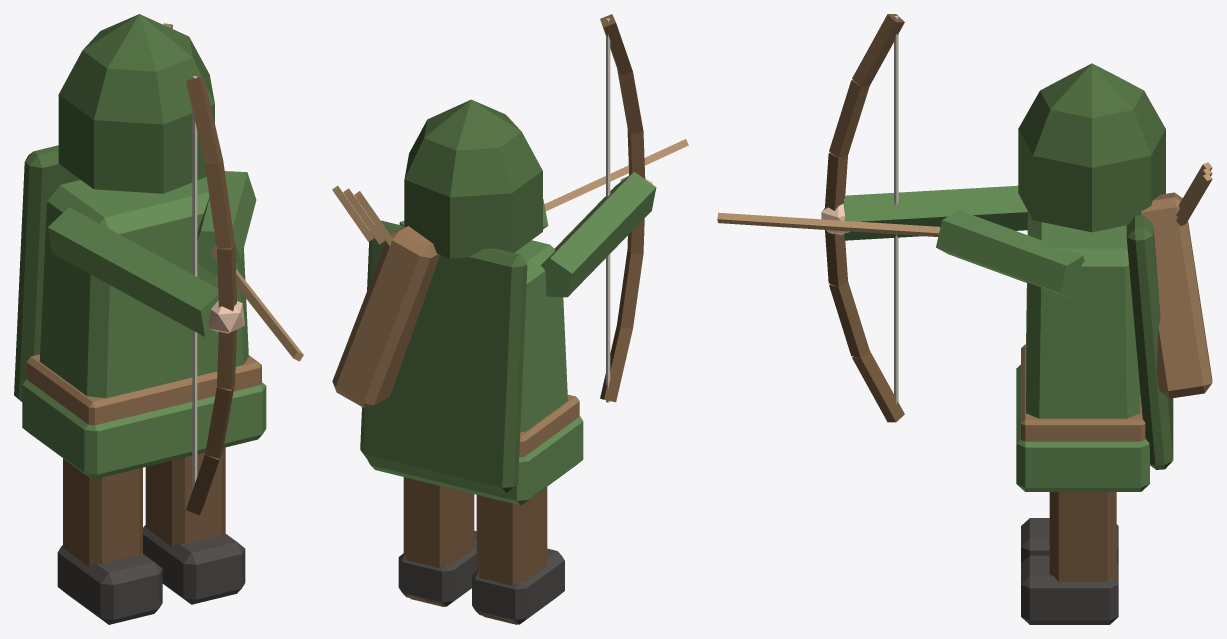
Rendered from archer_turret_2.glb.
The picture shows the model from 3 angles, left to right: view 1: azimuth 30°, elevation 25°; view 2: azimuth 150°, elevation 25°; view 3: azimuth 270°, elevation 25°; orthographic projection. The views are drawn at different scales.
Visible parts, largest first — view 1: Archer; view 2: Archer; view 3: Archer.
Boxes of the visible parts, <box> form: Archer: <box>14,14,303,624</box>; Archer: <box>332,14,688,624</box>; Archer: <box>717,14,1212,624</box>.
Size of the model in its own units: 0.491 by 1.39 by 1.11.
